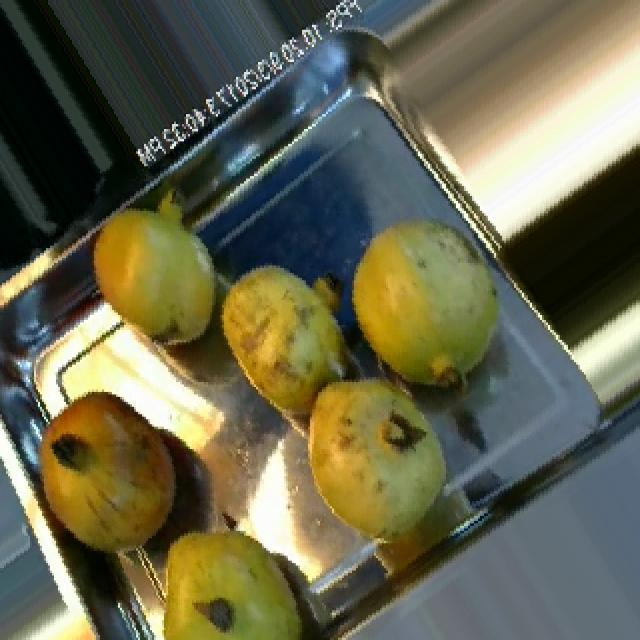fruit: (286, 352, 470, 580), (334, 198, 534, 407), (14, 364, 202, 580), (68, 178, 236, 374), (206, 246, 364, 434), (150, 503, 324, 640)
